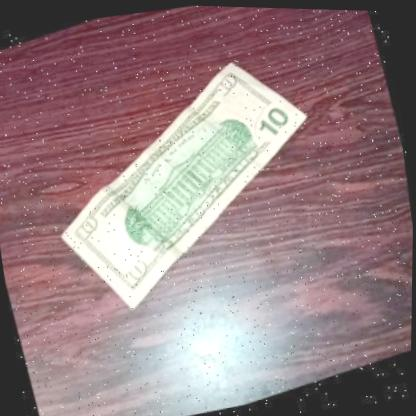ten-back: (19, 33, 356, 339)
